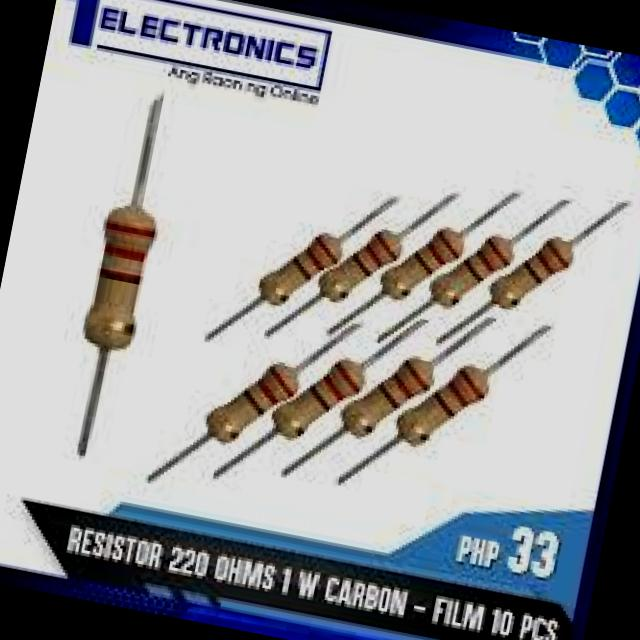Resistor: (83, 200, 157, 352), (398, 366, 486, 444), (207, 362, 294, 440), (273, 363, 360, 435), (343, 360, 429, 432), (381, 227, 460, 298), (260, 232, 339, 301), (322, 229, 400, 298), (430, 238, 509, 302), (491, 242, 567, 305)
brown: (98, 267, 140, 286)
gold: (82, 316, 136, 334)
red: (102, 221, 156, 239), (102, 245, 145, 262)
